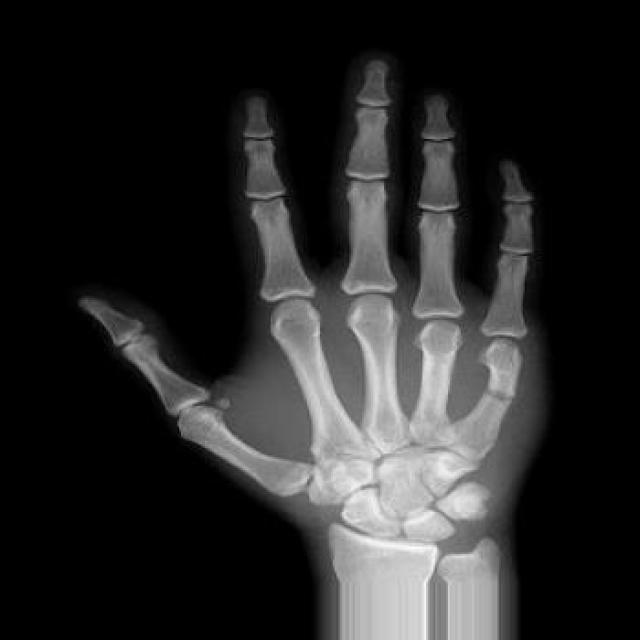Fracture: (470, 379, 530, 413)
